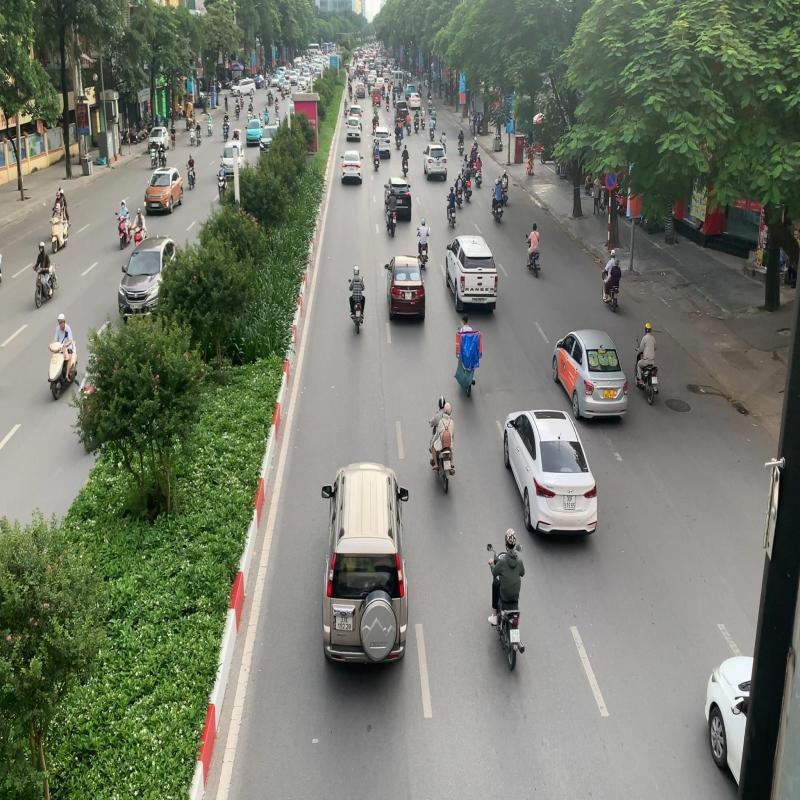helmet: (505, 527, 516, 549), (444, 402, 453, 415), (438, 397, 446, 409), (645, 323, 652, 334)
licenseplate: (510, 628, 520, 643), (443, 460, 451, 471), (652, 376, 658, 384)
motorcyclist: (486, 526, 526, 673), (428, 395, 456, 494), (454, 313, 482, 397), (634, 322, 659, 407)
nohelmet: (462, 314, 469, 325), (532, 222, 538, 231), (614, 258, 620, 266), (611, 249, 616, 258)
